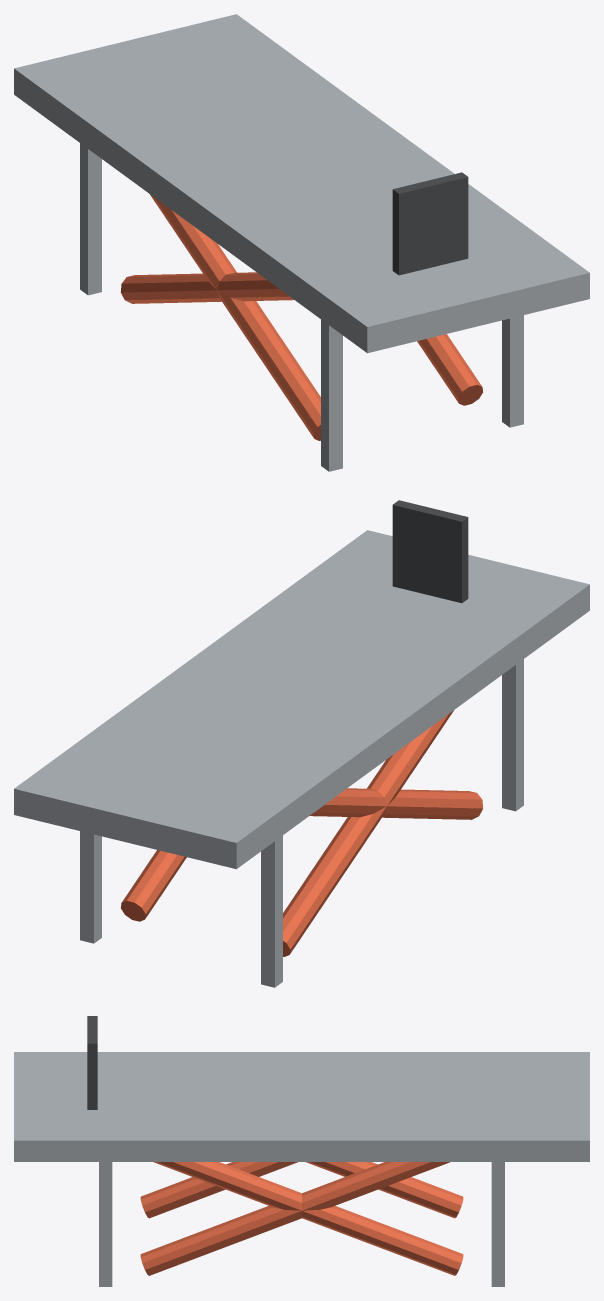
File: bikeLift.glb
3 views of the same model, one above another, from view 1: azimuth 30°, elevation 25°; view 2: azimuth 150°, elevation 25°; view 3: azimuth 270°, elevation 25° (orthographic). The views are drawn at different scales.
Parts seen in each view (by area): view 1: bike-lift-bench; view 2: bike-lift-bench; view 3: bike-lift-bench.
Part boxes in pixels (bbox=[...]): bike-lift-bench: bbox=[14, 14, 589, 471]; bike-lift-bench: bbox=[14, 500, 589, 987]; bike-lift-bench: bbox=[14, 1016, 589, 1286].
Size of the model in its own units: 0.8001 by 0.92 by 2.2.
